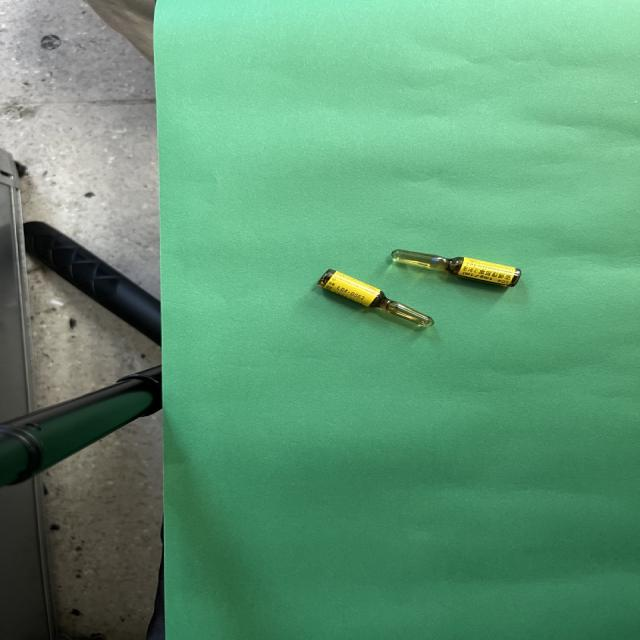Ampoules: (317, 270, 433, 327), (391, 250, 520, 288)
